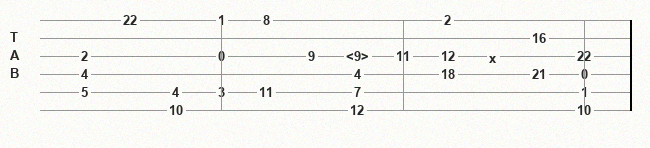0: (218, 49, 229, 63), (581, 67, 592, 81)
1: (218, 13, 229, 27), (581, 85, 592, 99)
10: (169, 103, 187, 117), (577, 103, 595, 117)
11: (259, 85, 277, 99), (396, 49, 414, 63)
12: (350, 103, 368, 117), (441, 49, 459, 63)
16: (532, 31, 550, 45)
18: (441, 67, 459, 81)
2: (81, 49, 92, 63), (444, 13, 455, 27)
21: (532, 67, 550, 81)
22: (123, 13, 141, 27), (577, 49, 595, 63)
3: (218, 85, 229, 99)
4: (81, 67, 92, 81), (172, 85, 183, 99), (354, 67, 365, 81)
5: (81, 85, 92, 99)
7: (354, 85, 365, 99)
8: (263, 13, 274, 27)
9: (308, 49, 319, 63)
harmonic: (346, 49, 373, 63)
x: (489, 51, 501, 62)
